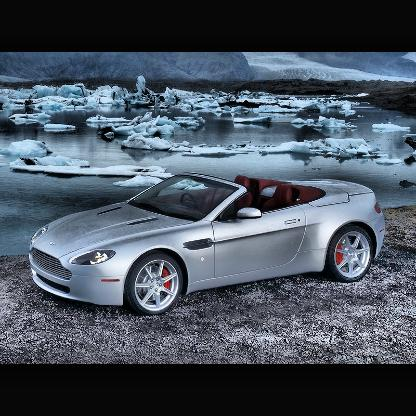Aston Martin V8 Vantage Convertible 2012: (20, 165, 388, 313)
